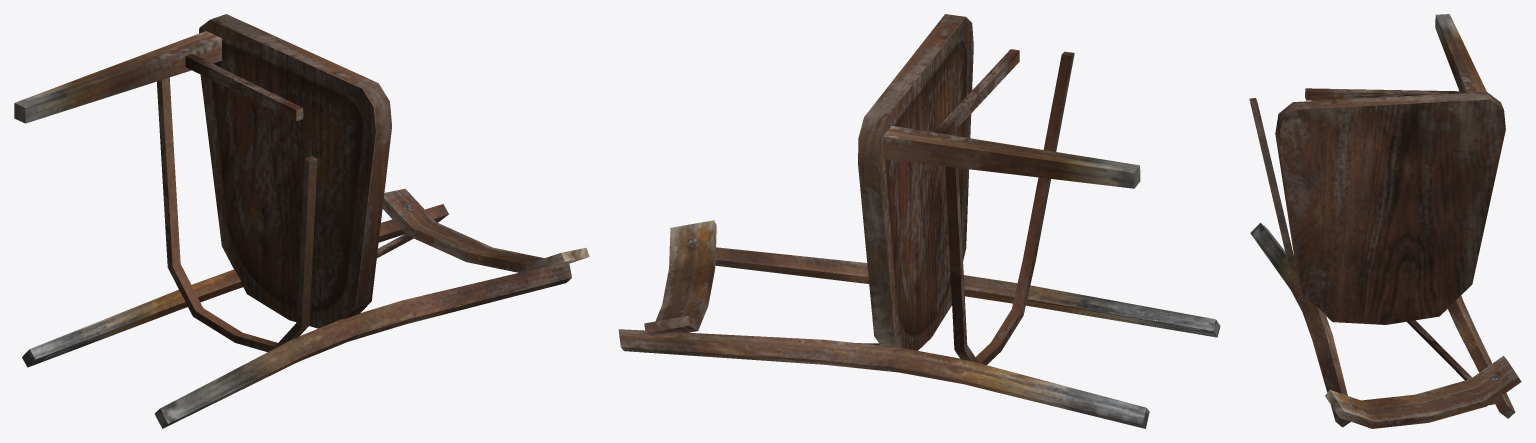
File: chair_br.FBX
3 views of the same model, side by side, from view 1: azimuth 30°, elevation 25°; view 2: azimuth 150°, elevation 25°; view 3: azimuth 270°, elevation 25° (orthographic). The views are drawn at different scales.
Parts seen in each view (by area): view 1: chair.3; view 2: chair.3; view 3: chair.3.
Part boxes in pixels (x1,y1,x2,y2): chair.3: (14,14,589,428); chair.3: (618,14,1220,428); chair.3: (1249,14,1521,428).
Size of the model in its own units: 1.06 by 0.5532 by 0.5822.
Materials: 1 (1 with a texture image).
